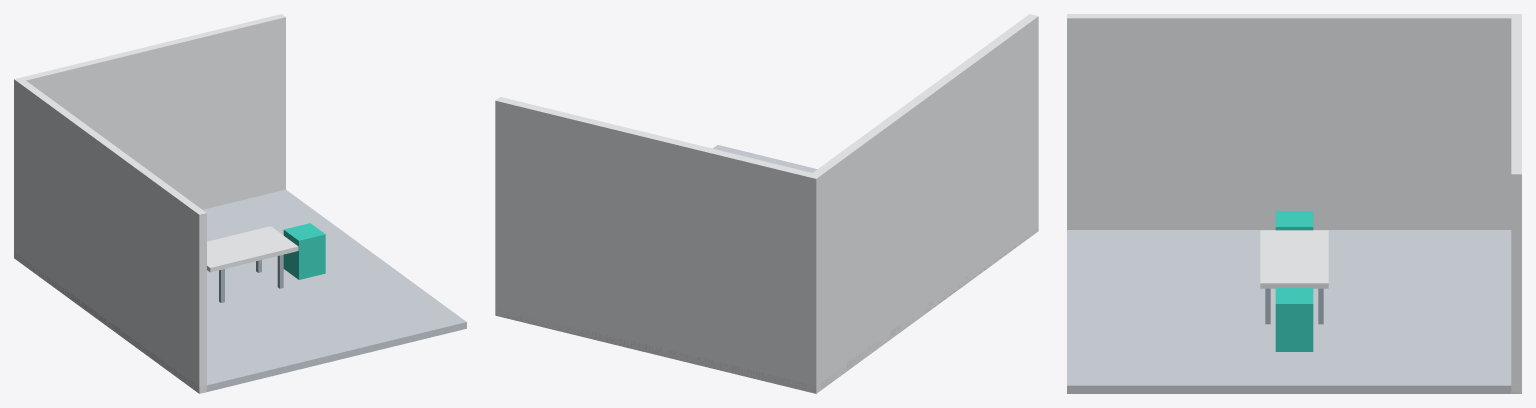
The picture shows the model from 3 angles, left to right: view 1: azimuth 30°, elevation 25°; view 2: azimuth 150°, elevation 25°; view 3: azimuth 270°, elevation 25°; orthographic projection. The views are drawn at different scales.
Visible parts, largest first — view 1: Exhibition Booth Concept; view 2: Exhibition Booth Concept; view 3: Exhibition Booth Concept.
Part boxes in pixels (left/top/right/bottom): Exhibition Booth Concept: left=14, top=14, right=466, bottom=393; Exhibition Booth Concept: left=495, top=14, right=1038, bottom=393; Exhibition Booth Concept: left=1067, top=14, right=1521, bottom=393.
Size of the model in its own units: 5 by 3.2 by 6.
